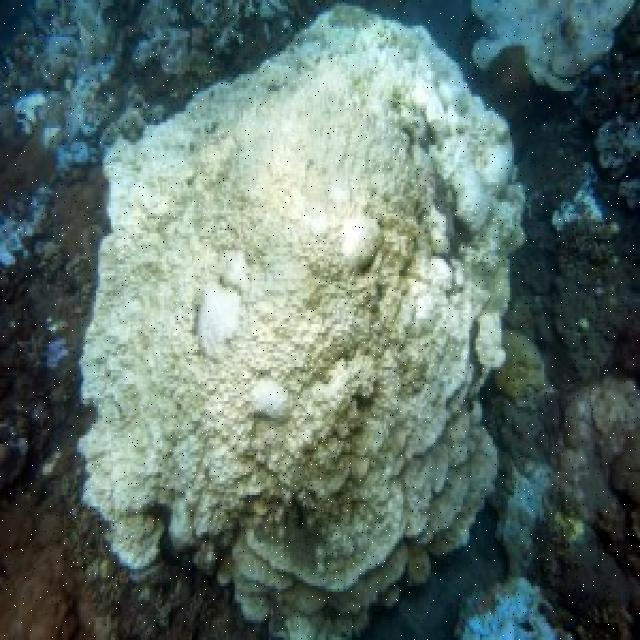Bleached: (85, 7, 529, 640), (465, 466, 593, 640), (10, 1, 117, 166), (476, 1, 640, 92), (553, 117, 640, 251), (131, 1, 233, 70), (1, 184, 50, 272)
